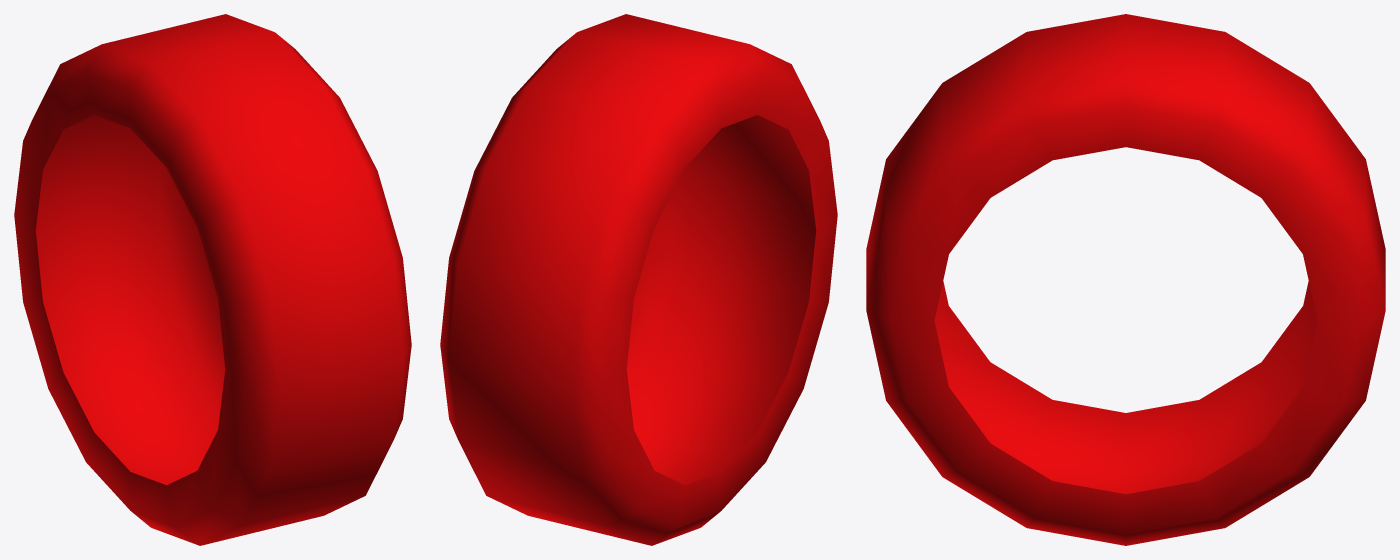
File: CarTire(withoutdis).fbx
3 renders of one model, left to right at view 1: azimuth 30°, elevation 25°; view 2: azimuth 150°, elevation 25°; view 3: azimuth 270°, elevation 25°, orthographic.
Parts seen in each view (by area): view 1: Tire(withoutdish); view 2: Tire(withoutdish); view 3: Tire(withoutdish).
Boxes of the visible parts, x1,y1,x2,y2 form: Tire(withoutdish): [14, 14, 411, 545]; Tire(withoutdish): [440, 14, 837, 545]; Tire(withoutdish): [866, 14, 1385, 545].
Size of the model in its own units: 26.22 by 70.65 by 70.65.
